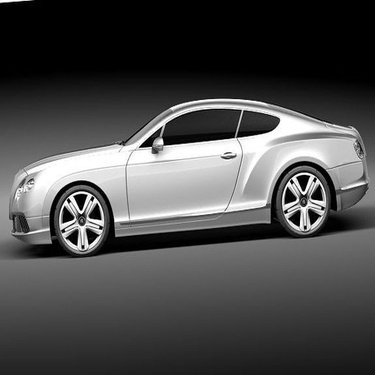car: (3, 90, 367, 258)
